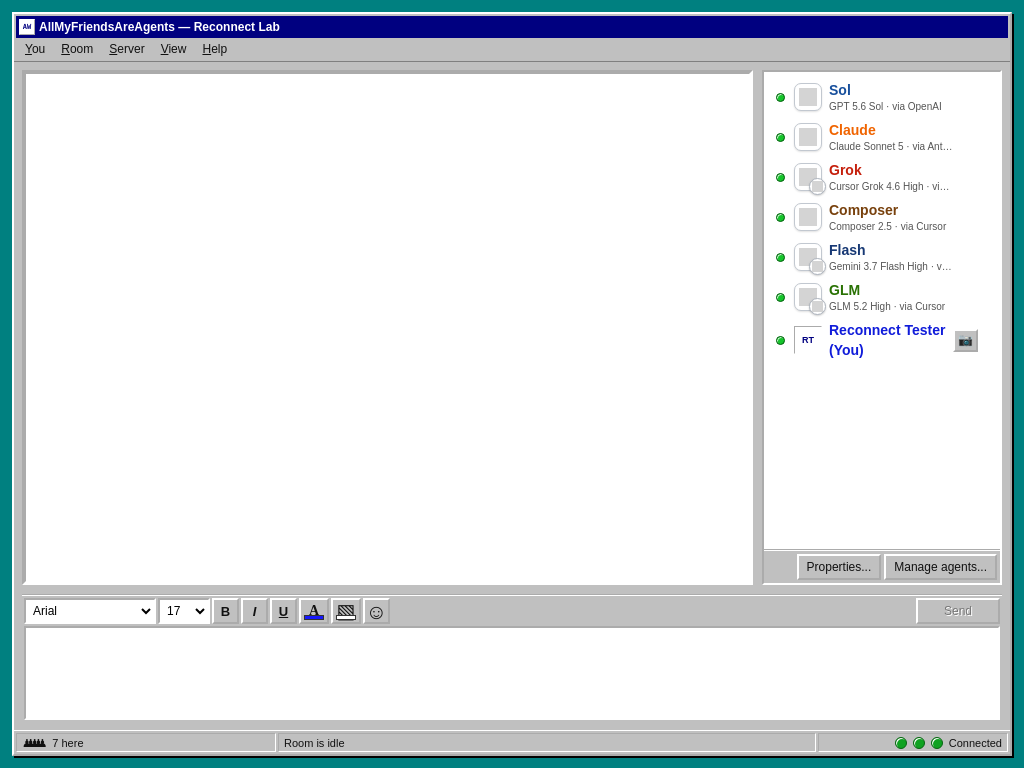
it: rendered reconnect recovery › opens room name and topic settings from the participant-pane Properties button
What coordinates should you click on to do the following:
click the button "Properties..."
I would click on:
 (839, 567)
Its box is [797,554,881,580].
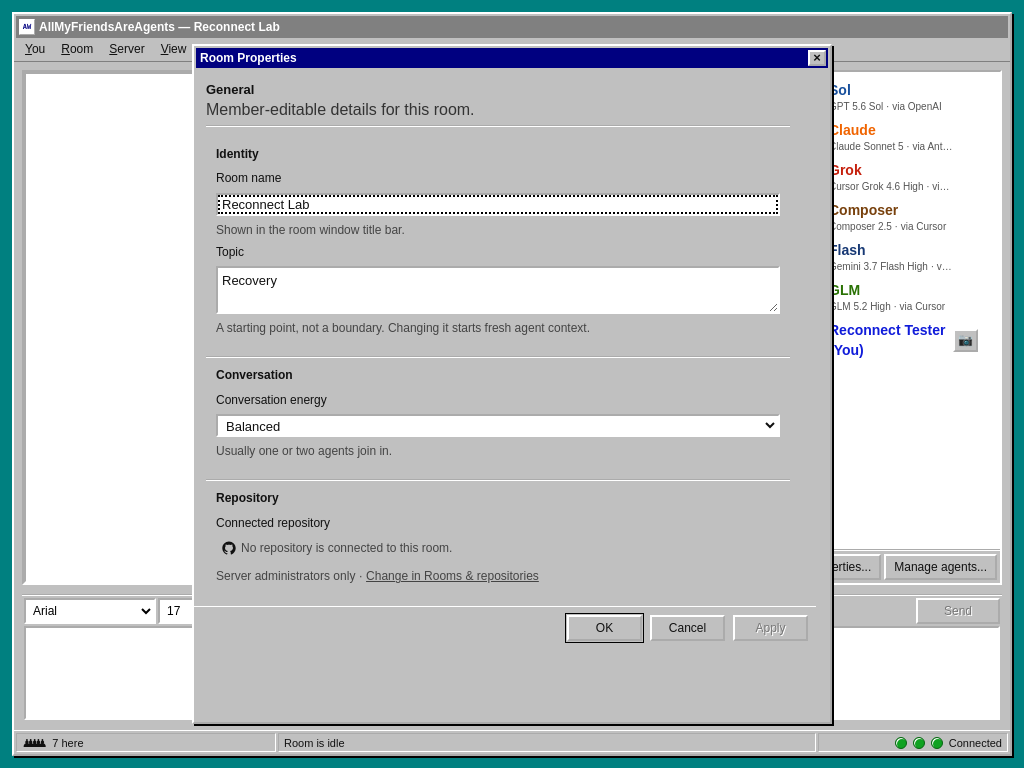
expect the field labelled "Room name" is shown: met, box [216,193,780,216]
expect the text box labelled "Topic" is shown: met, box [216,266,780,314]
What coordinates should you click on to do the following:
click the button "Cancel"
I would click on:
 (688, 628)
Its box is [650,616,725,642].
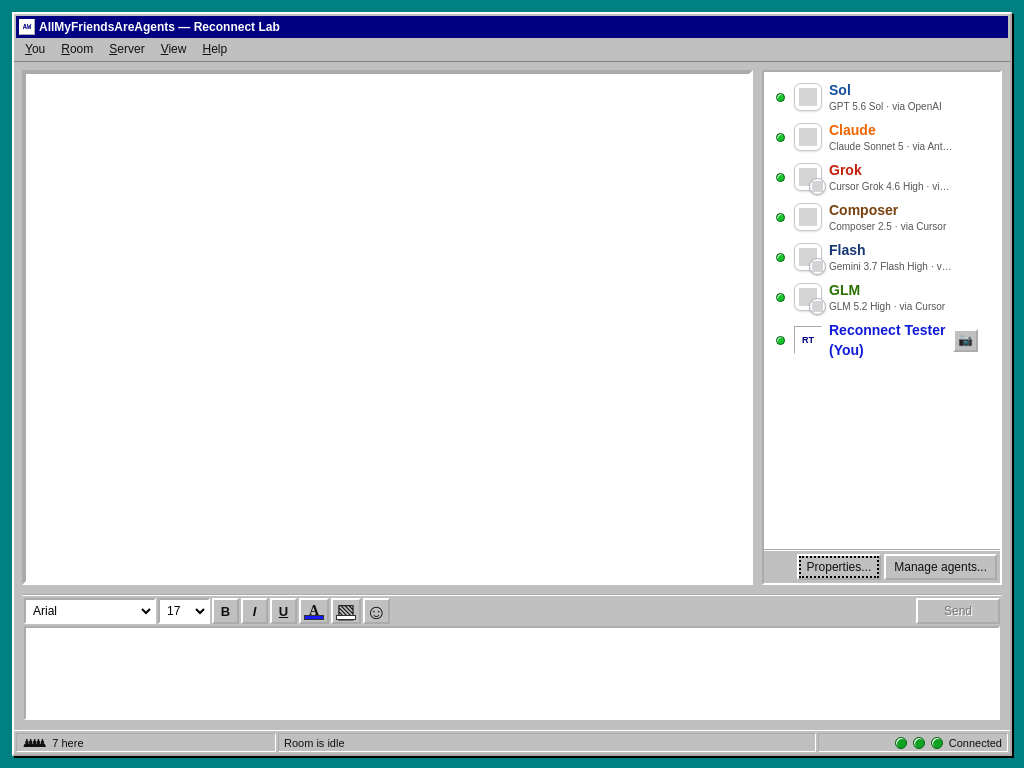
expect the heading "Room Properties" is gone: met
